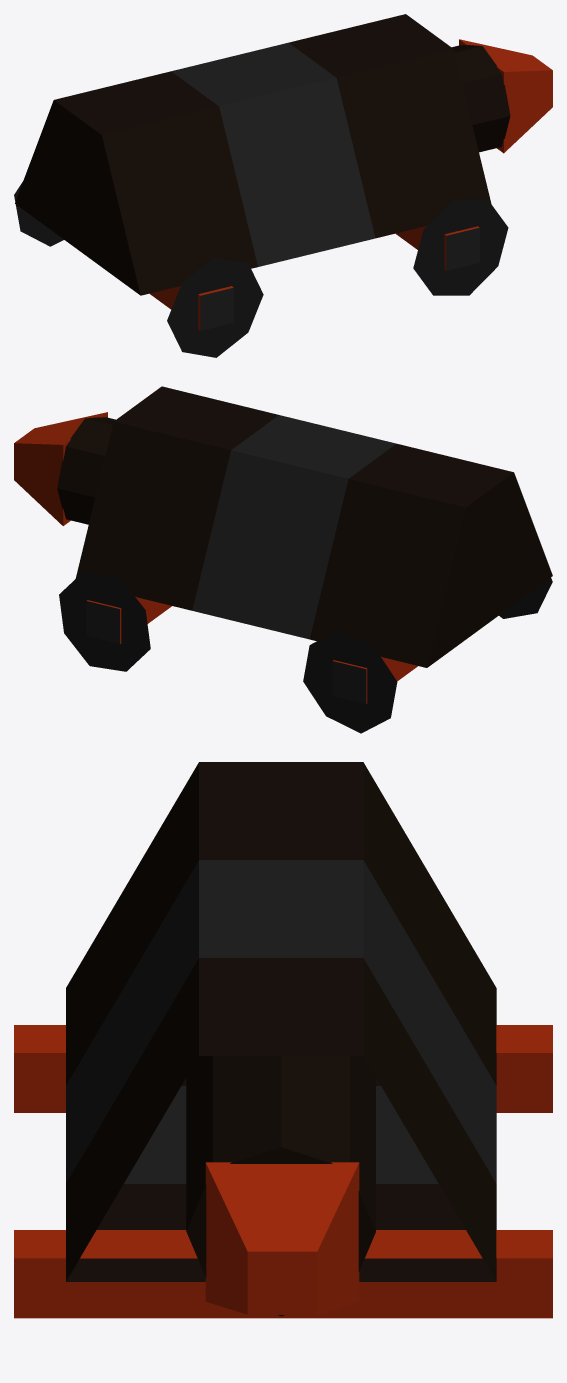
The model's file is heavybatteringram2.obj.
3 views of the same model, one above another, from view 1: azimuth 30°, elevation 25°; view 2: azimuth 150°, elevation 25°; view 3: azimuth 270°, elevation 25° (orthographic). The views are drawn at different scales.
Visible parts, largest first — view 1: Cube, Plane.003, Plane.002, Cube.003, Cube.002, Cube.001, Plane.001; view 2: Cube, Plane.001, Plane, Cube.003, Cube.001, Cube.002, Plane.002; view 3: Cube, Cube.001, Cube.003, Cube.002.
Boxes of the visible parts, bbox=[...] form: Cube: bbox=[15, 14, 510, 295]; Plane.003: bbox=[413, 200, 508, 295]; Plane.002: bbox=[167, 257, 263, 357]; Cube.003: bbox=[459, 39, 552, 153]; Cube.002: bbox=[150, 286, 233, 330]; Cube.001: bbox=[396, 226, 479, 270]; Plane.001: bbox=[14, 182, 63, 246]; Cube: bbox=[57, 386, 552, 667]; Plane.001: bbox=[303, 629, 397, 733]; Plane: bbox=[59, 571, 150, 671]; Cube.003: bbox=[14, 412, 107, 525]; Cube.001: bbox=[86, 597, 171, 643]; Cube.002: bbox=[332, 656, 417, 704]; Plane.002: bbox=[499, 577, 552, 618]; Cube: bbox=[66, 762, 496, 1316]; Cube.001: bbox=[14, 1230, 552, 1318]; Cube.003: bbox=[205, 1162, 359, 1314]; Cube.002: bbox=[14, 1025, 552, 1112].
Size of the model in its own units: 10.17 by 4.18 by 5.96.
